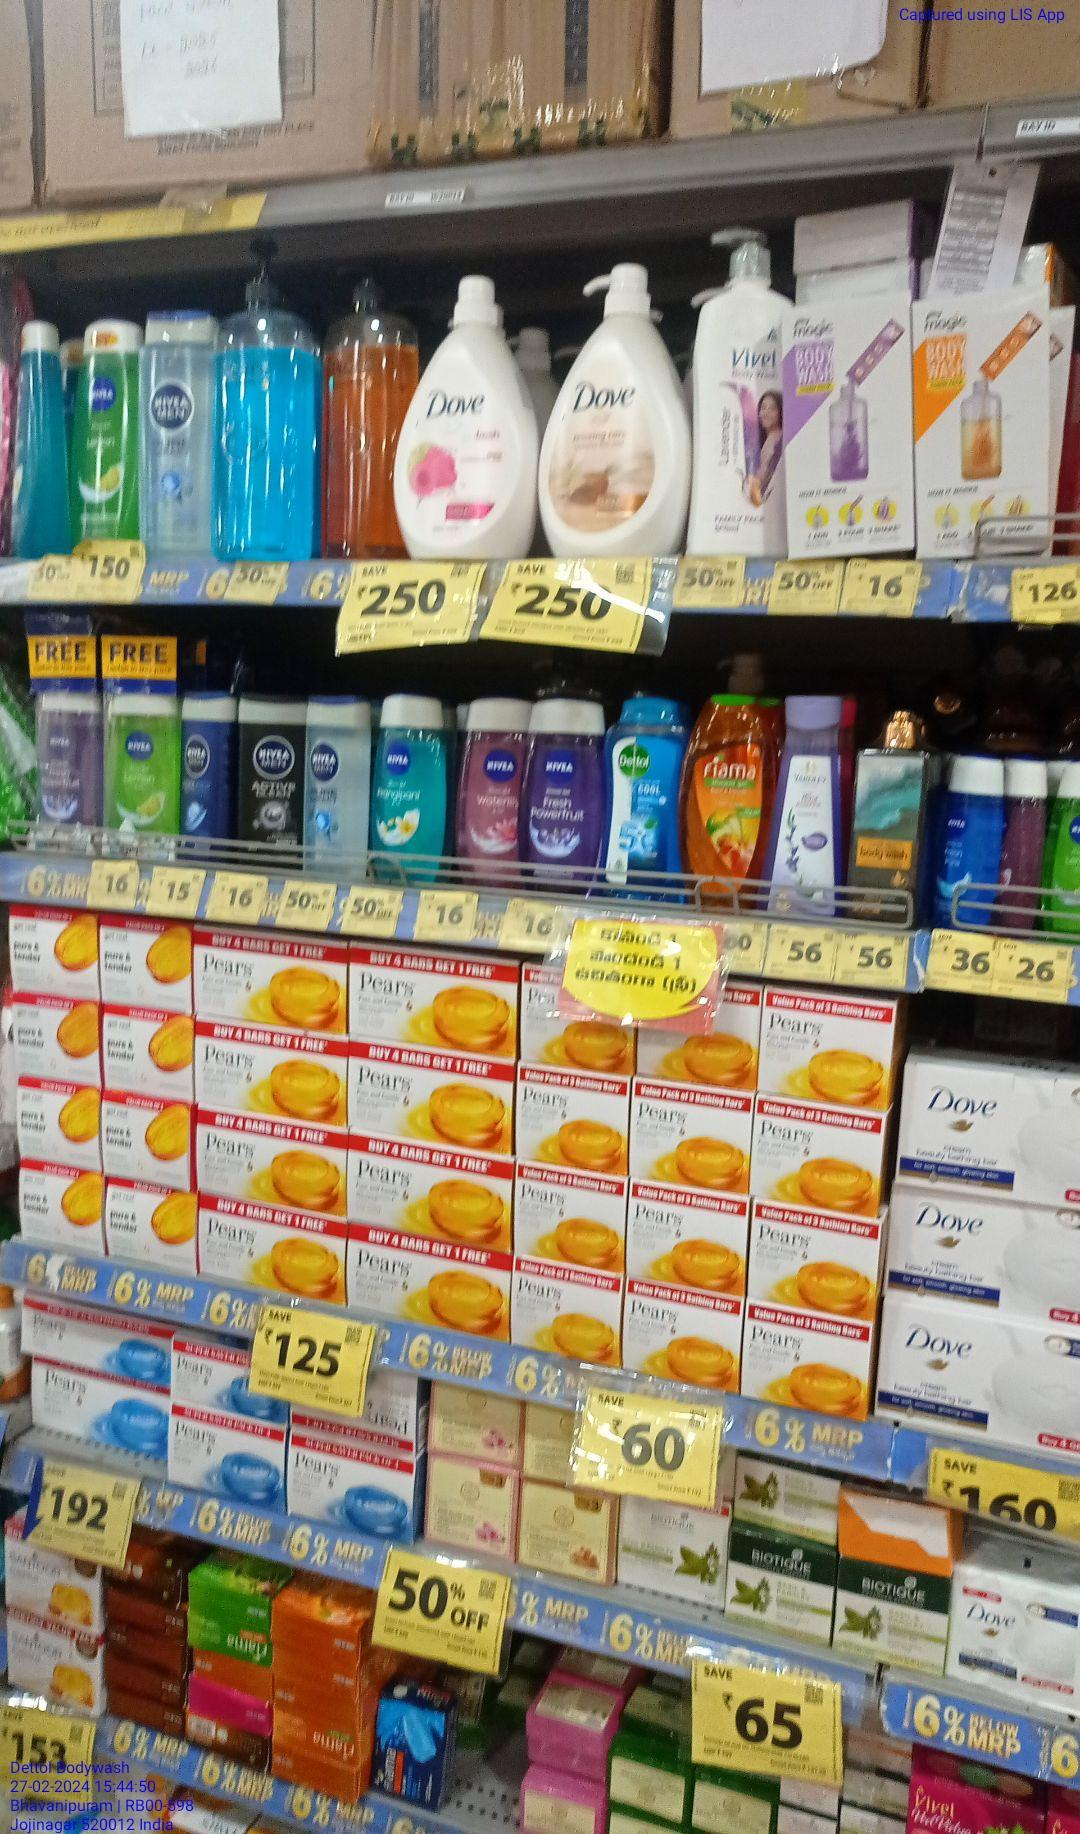Dettol_Bodywash_Cool: (606, 686, 683, 904)
Fiama_Shower_Gel_Peach_and_Avocado_250ML: (689, 689, 759, 913)
Nivea_Shower_Gel_Frangipani_and_Oil_250ML: (375, 691, 450, 889)
Nivea_Shower_Gel_Fresh_Powerfruit_250ML: (528, 685, 599, 896)
Nivea_Shower_Gel_Lemon_and_Oil_250ML: (69, 311, 139, 541)
Nivea_Shower_Gel_Waterlily_and_Oil_250ML: (459, 691, 521, 887)
